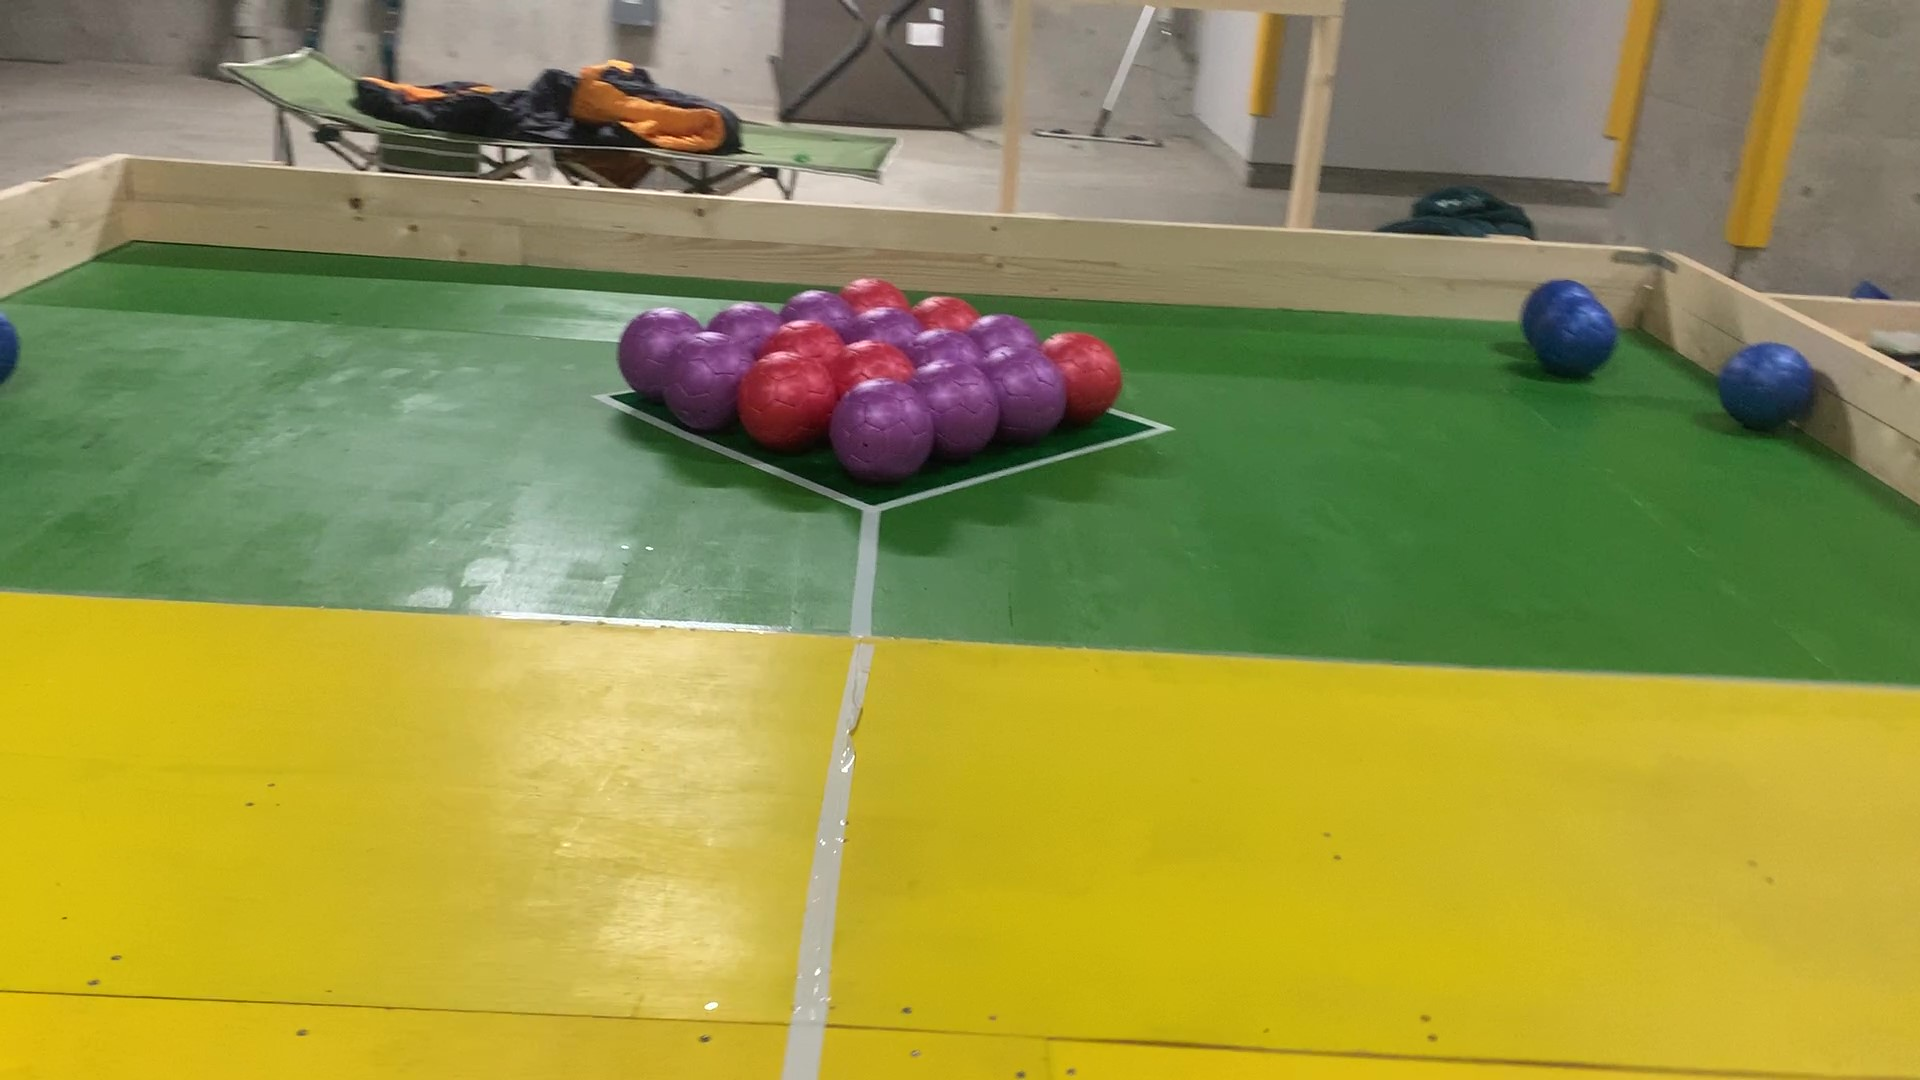blue: (1734, 347, 1800, 421), (1549, 303, 1607, 376), (1526, 287, 1544, 340), (3, 322, 20, 375)
purple: (844, 392, 918, 465), (678, 342, 736, 419), (934, 367, 988, 444), (1004, 353, 1058, 426), (628, 316, 666, 388), (789, 291, 840, 320), (852, 313, 906, 339), (720, 305, 769, 334), (918, 334, 973, 359), (986, 320, 1031, 347)
red: (752, 361, 822, 436), (1067, 339, 1116, 411), (847, 348, 905, 380), (781, 328, 835, 353), (919, 302, 968, 327), (852, 284, 902, 305)
